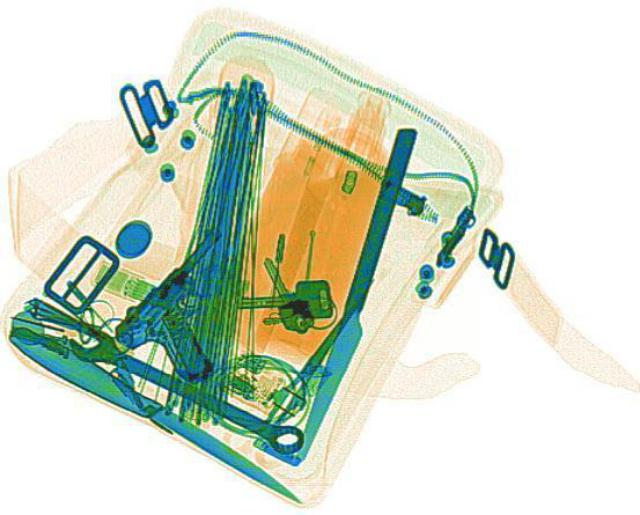Gun: (98, 225, 300, 382)
Knife: (0, 321, 311, 510), (293, 123, 425, 458), (250, 285, 380, 431)
Wrench: (60, 321, 312, 457)
